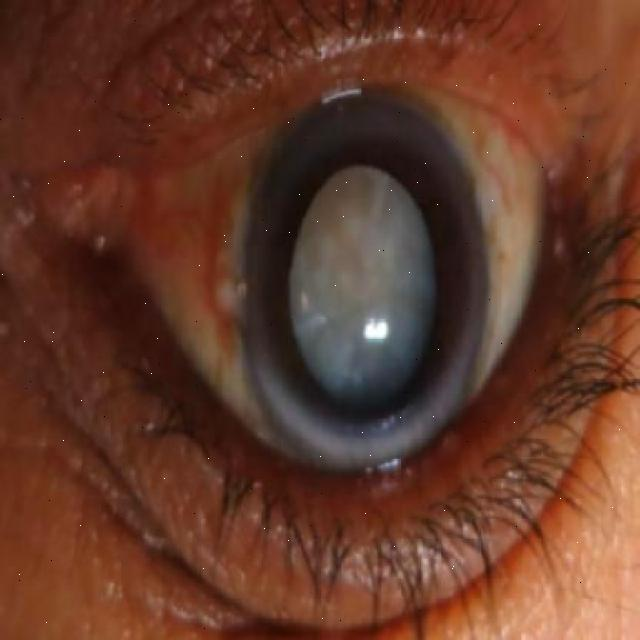Cataract: (241, 70, 491, 472)
